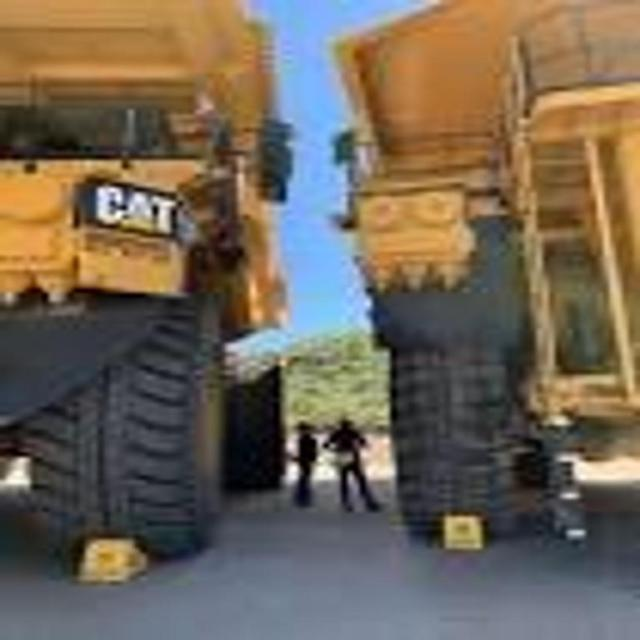dump_truck: (0, 0, 298, 579), (341, 0, 640, 573)
